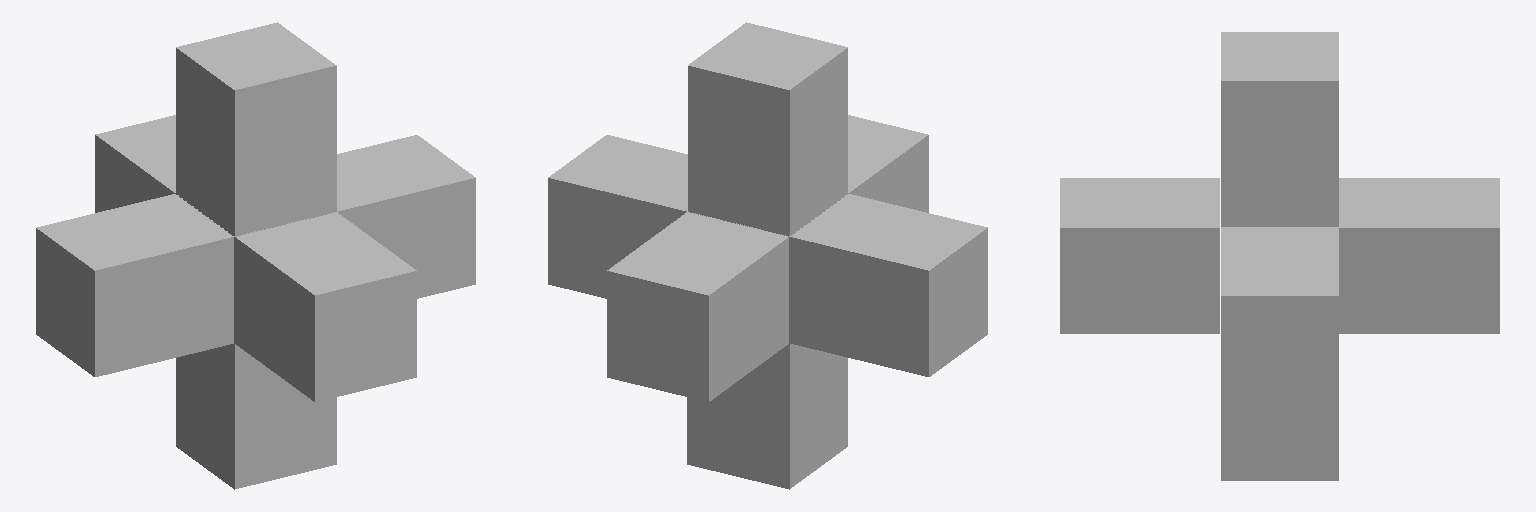
File: aluminumWireHeavy.obj
3 views of the same model, side by side, from view 1: azimuth 30°, elevation 25°; view 2: azimuth 150°, elevation 25°; view 3: azimuth 270°, elevation 25° (orthographic).
Parts seen in each view (by area): view 1: Top, Right, Front, Bottom, Left, Back; view 2: Top, Right, Back, Bottom, Left, Front; view 3: Back, Front, Top, Left, Bottom.
Boxes of the visible parts, x1,y1,x2,y2 form: Top: [176, 22, 336, 235]; Right: [36, 194, 233, 376]; Front: [235, 212, 416, 401]; Bottom: [176, 344, 336, 489]; Left: [337, 135, 475, 298]; Back: [95, 115, 175, 212]; Top: [688, 22, 847, 235]; Right: [790, 194, 987, 376]; Back: [607, 212, 788, 401]; Bottom: [687, 344, 847, 489]; Left: [548, 135, 687, 298]; Front: [848, 115, 928, 212]; Back: [1339, 178, 1499, 333]; Front: [1060, 178, 1219, 333]; Top: [1221, 32, 1338, 226]; Left: [1221, 228, 1338, 402]; Bottom: [1221, 403, 1338, 480].
Size of the model in its own units: 1.02 by 1.02 by 1.02.